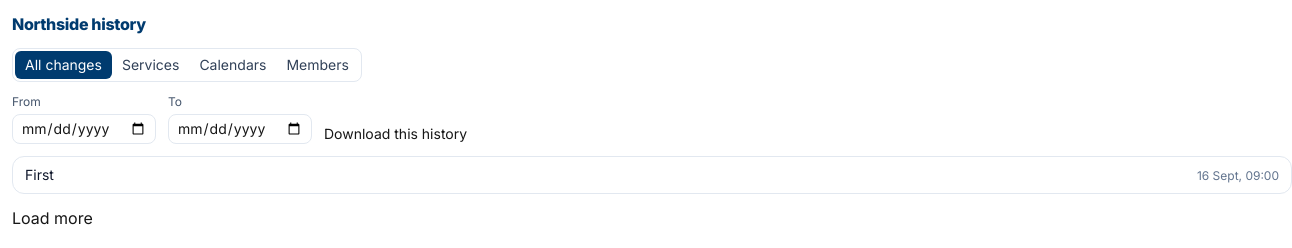
Scenario: CollectiveHistoryPanel › loads the next page with the cursor it was given
Click the button "Load more". click: {"x": 52, "y": 218}
box: [12,206,93,230]
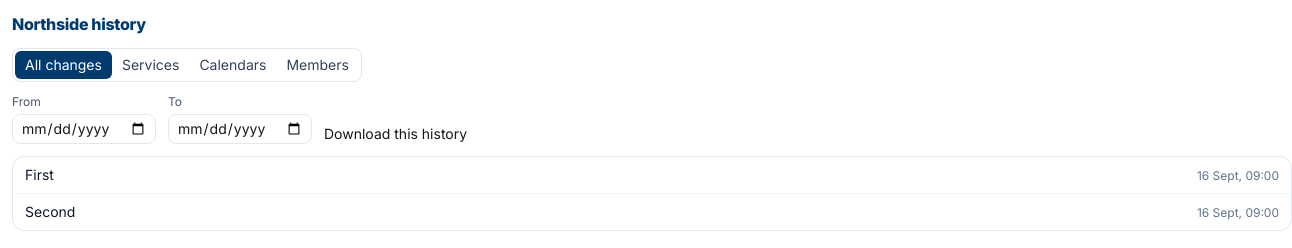
Expected: the text "First" is shown, [25,165,54,185]
Result: the text "Second" is shown at [25,202,75,222]
